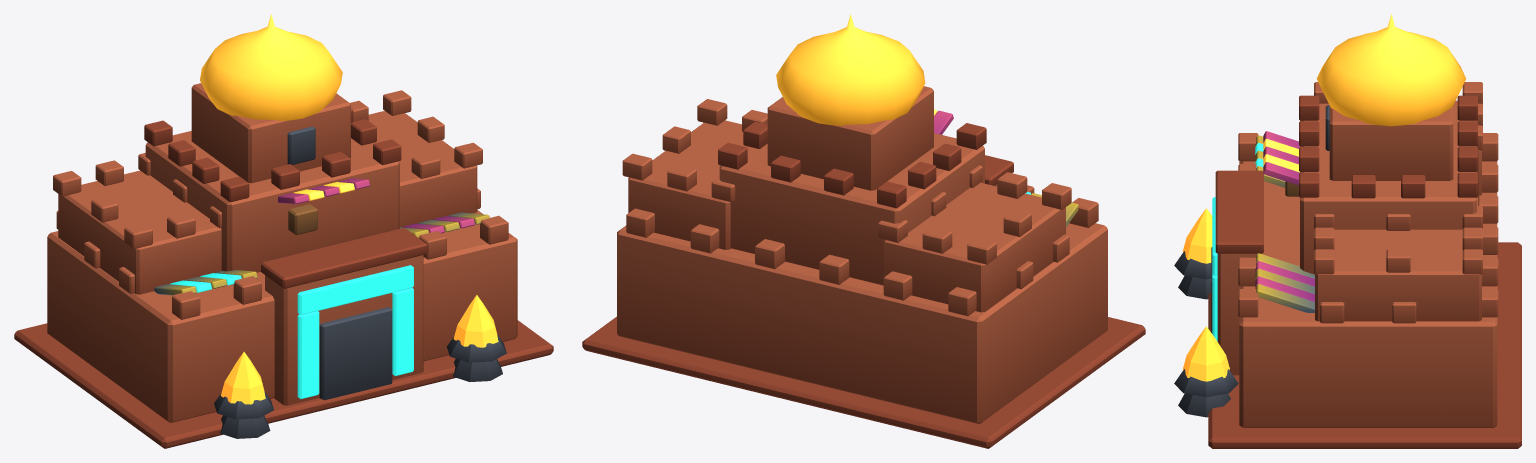
File: env_castle_canyon.glb
The picture shows the model from 3 angles, left to right: view 1: azimuth 30°, elevation 25°; view 2: azimuth 150°, elevation 25°; view 3: azimuth 270°, elevation 25°; orthographic projection. The views are drawn at different scales.
Parts seen in each view (by area): view 1: env_castle_canyon; view 2: env_castle_canyon; view 3: env_castle_canyon.
Part boxes in pixels (bbox=[...]): env_castle_canyon: bbox=[14, 14, 553, 448]; env_castle_canyon: bbox=[582, 14, 1145, 448]; env_castle_canyon: bbox=[1174, 14, 1521, 448].
Size of the model in its own units: 4.65 by 3.68 by 3.44.
1 material, 1 textured.
